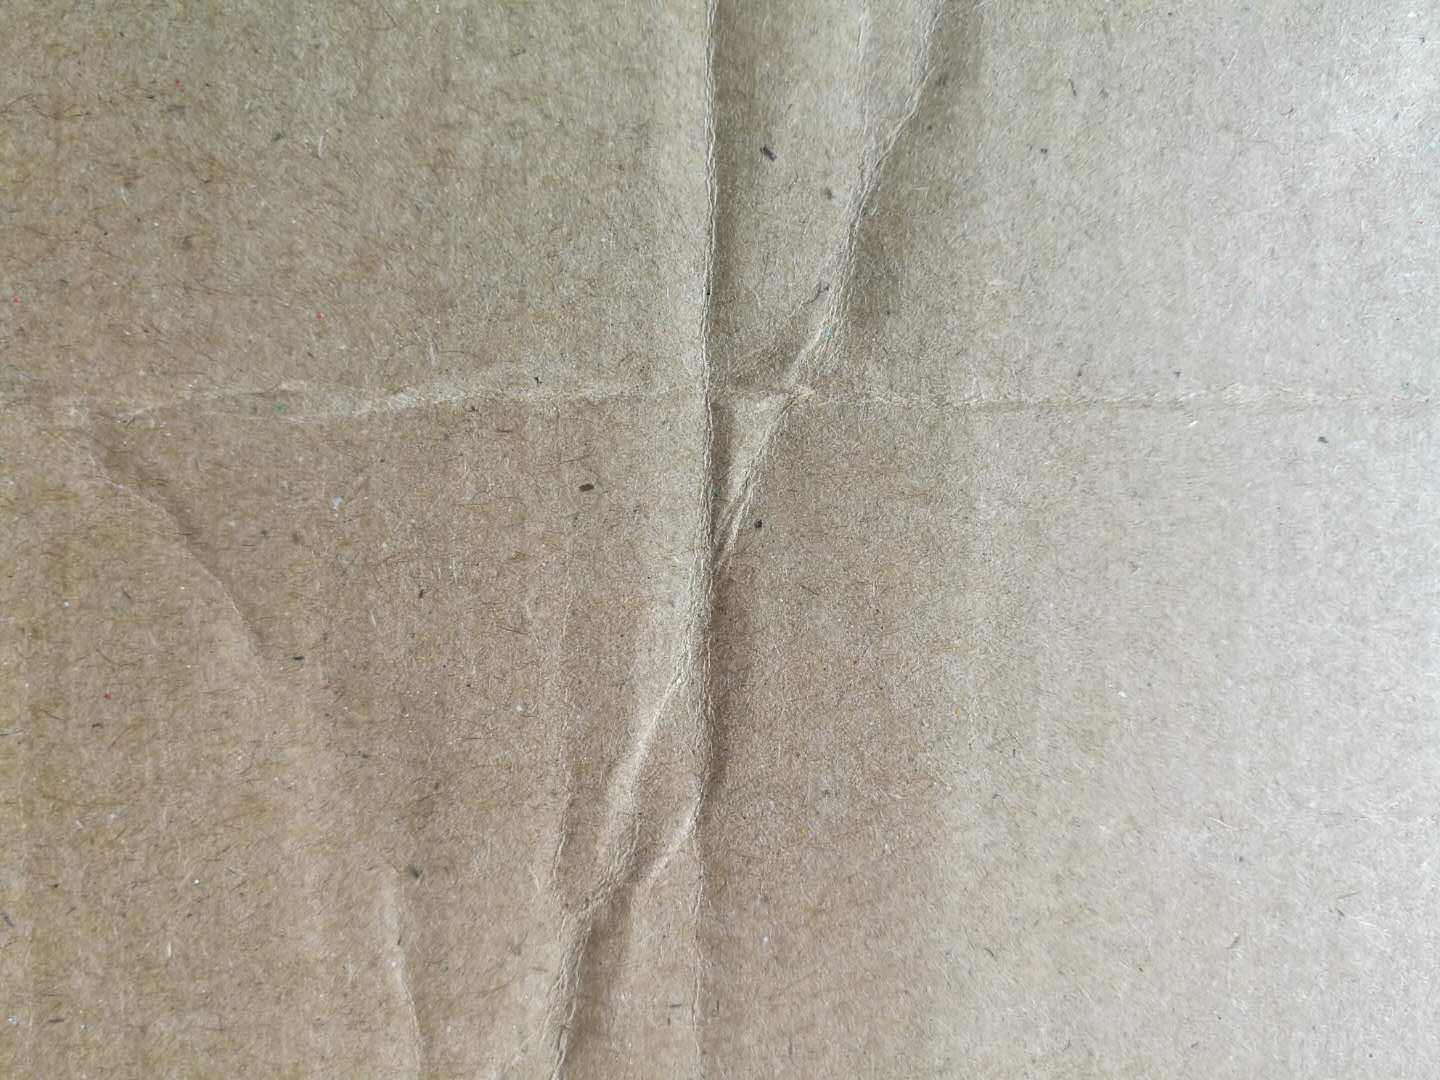defect: (3, 327, 1440, 700), (533, 3, 1003, 1077), (358, 824, 478, 1080)
